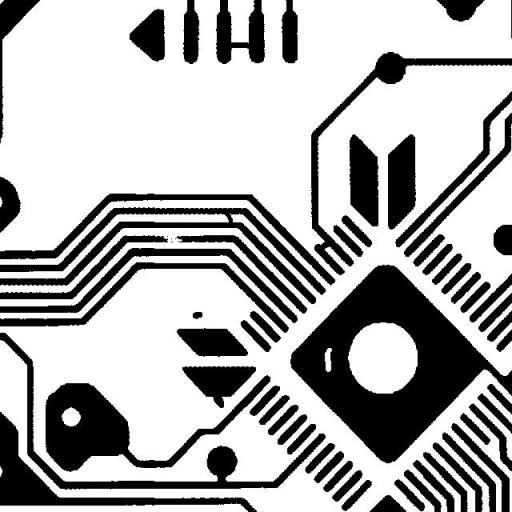copper: (184, 304, 210, 326)
open: (155, 228, 190, 250)
pin-hole: (317, 340, 339, 379)
short: (220, 34, 258, 56), (310, 232, 341, 257), (217, 204, 240, 230)
spur: (204, 384, 231, 415)
